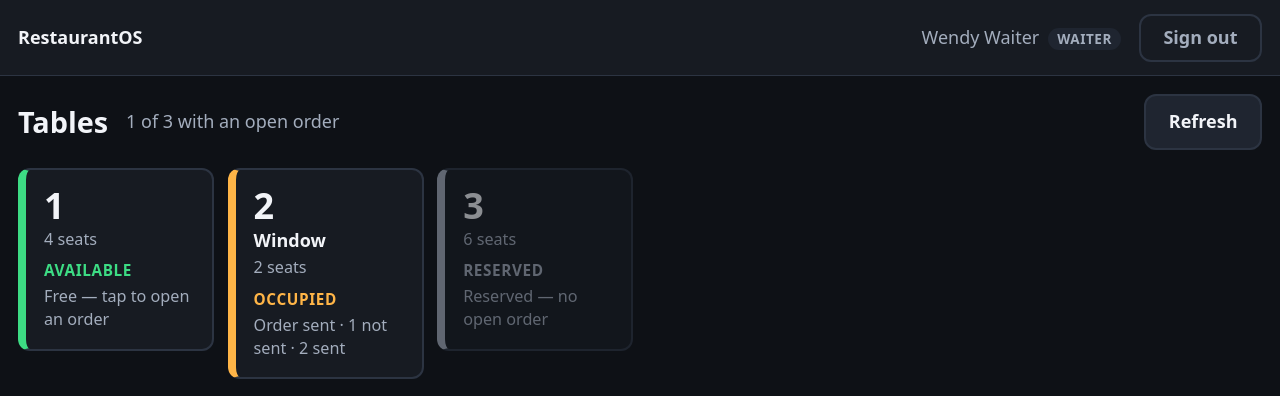
Test: Order builder › shows unavailable products and does not add them
The image size is (1280, 396).
Click the button with aria-label "Table 2, Window" at point(326, 274), box x1=228 y1=168 x2=424 y2=379
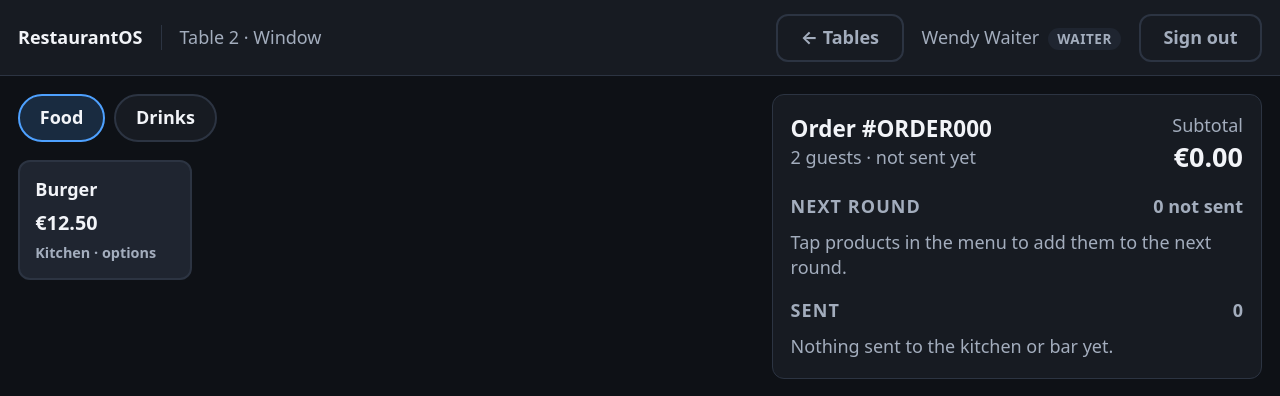
Click the tab "Drinks" at point(165, 118), box x1=114 y1=94 x2=217 y2=142
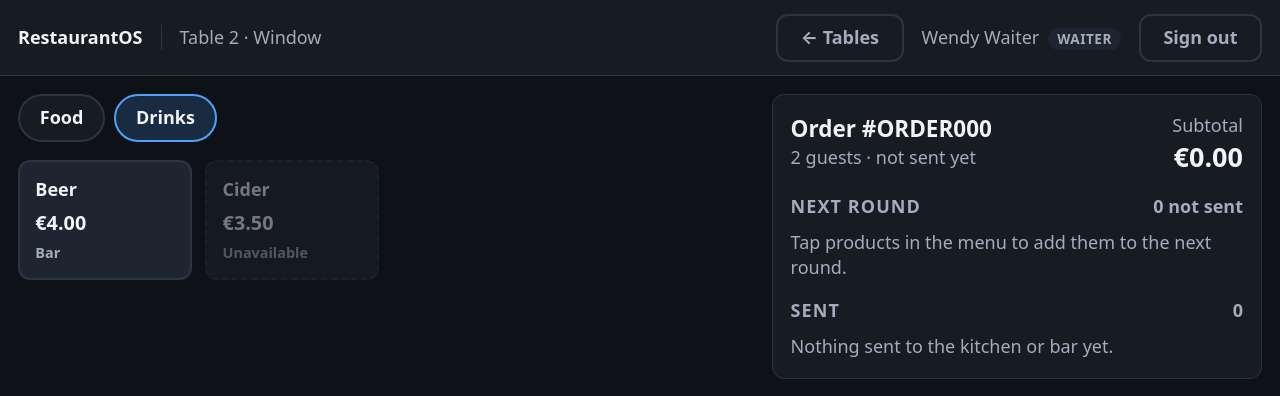
Expected: the button "Cider €3.50 Unavailable" is disabled, x1=205 y1=160 x2=379 y2=280
